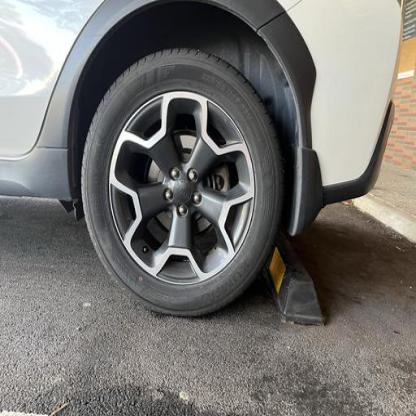Tire: (78, 46, 283, 318)
